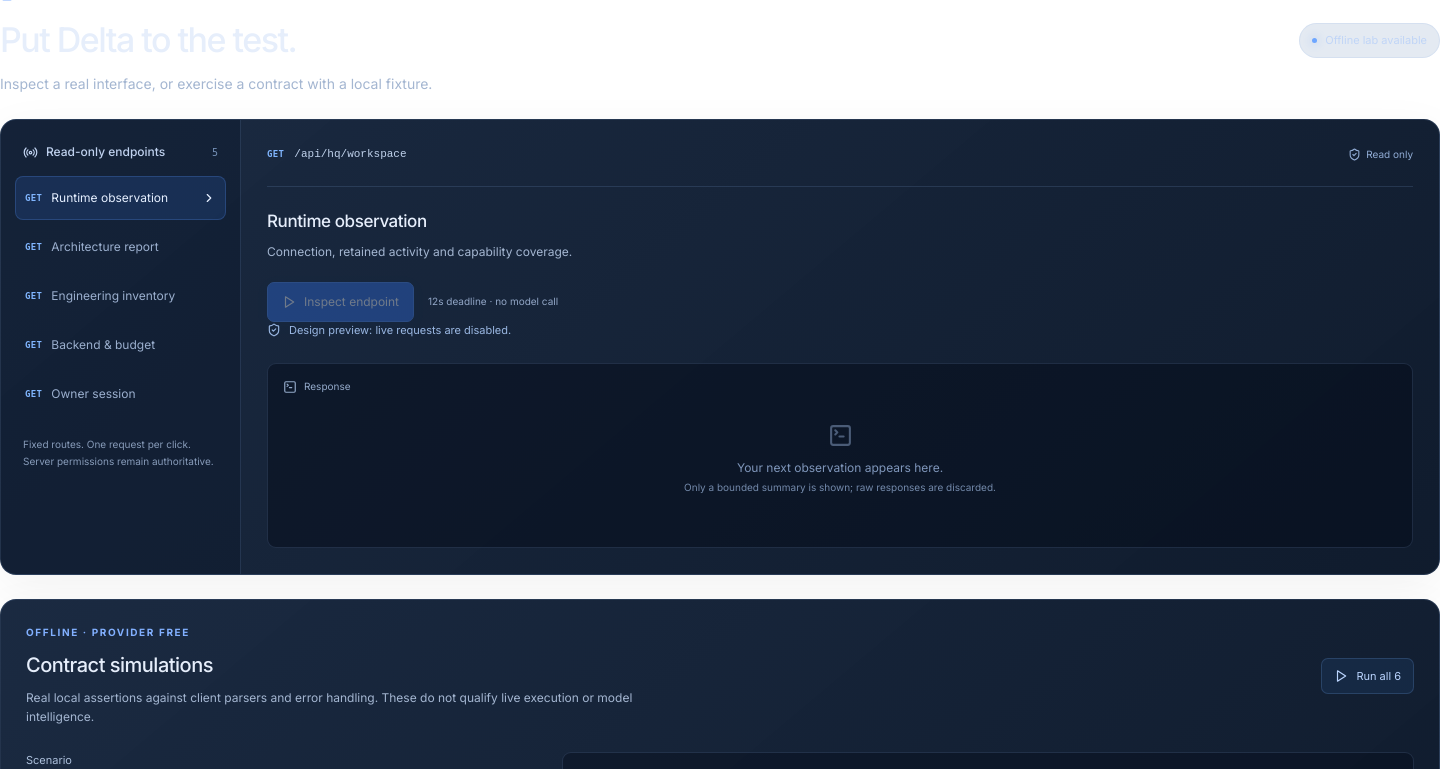
Scenario: runs all client contract fixtures and labels their limited scope
Click the button "Run all 6" at (1368, 676), box top-left (1321, 658), bottom-right (1414, 694)
(page scrolled)
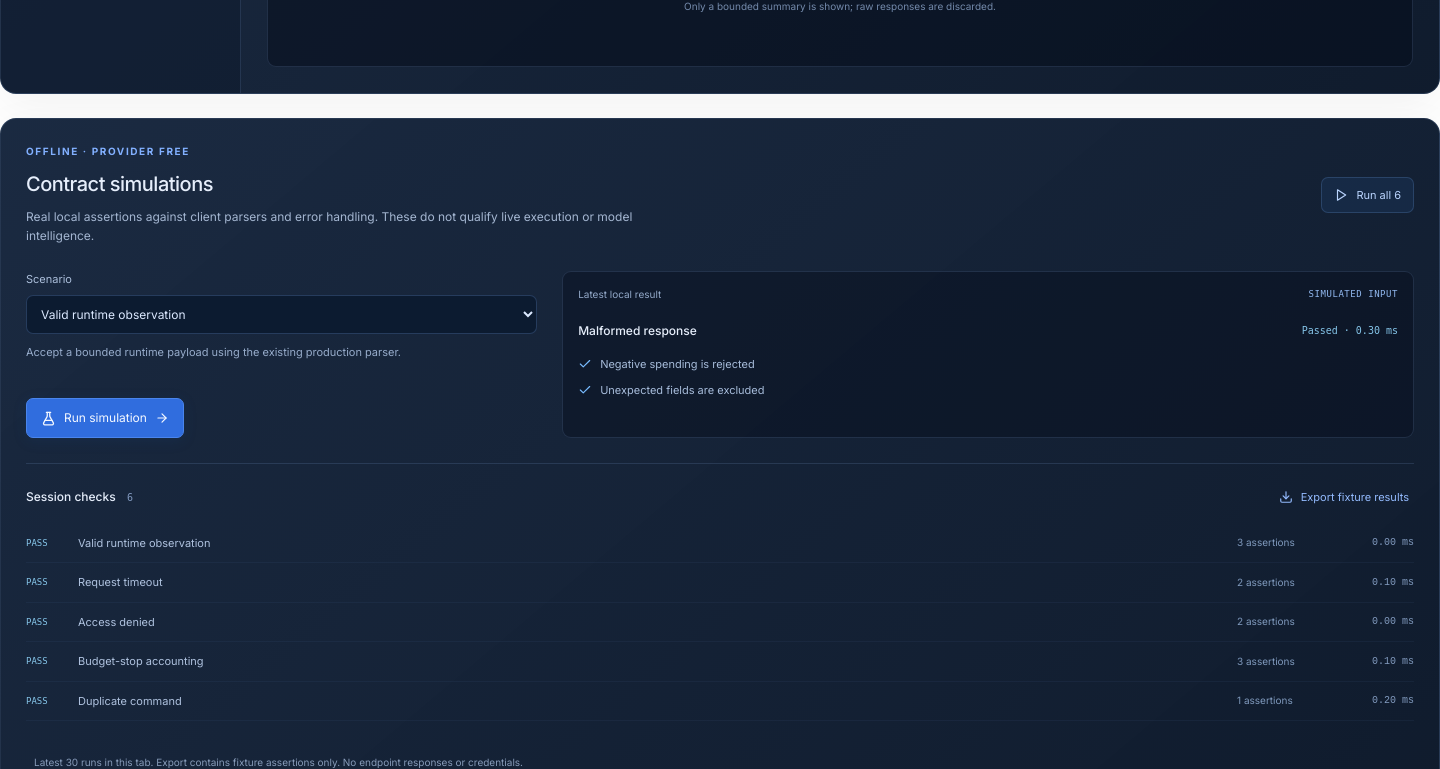
Expected: the text "SIMULATED INPUT" is shown, top-left (1309, 289), bottom-right (1398, 299)
Expected: the text "PASS" is shown 6 times
Expected: the button "Export fixture results" is enabled, top-left (1274, 484), bottom-right (1414, 510)
